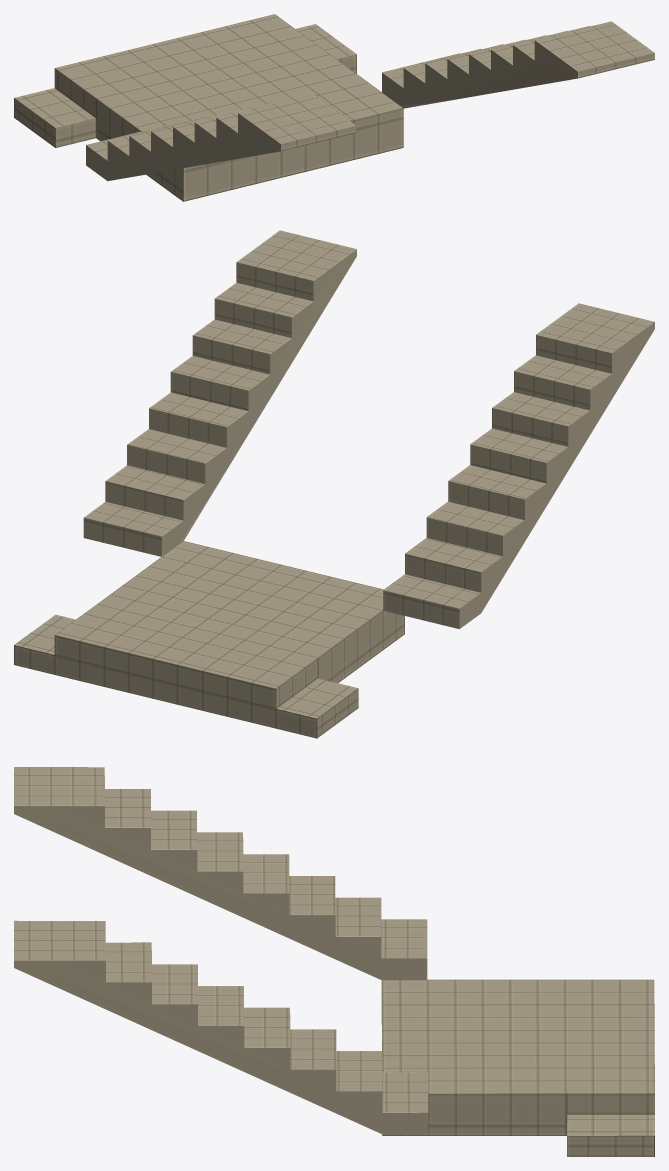
Rendered from Stair_06_Ufa.FBX.
3 views of the same model, one above another, from view 1: azimuth 30°, elevation 25°; view 2: azimuth 150°, elevation 25°; view 3: azimuth 270°, elevation 25° (orthographic). The views are drawn at different scales.
Parts seen in each view (by area): view 1: Stair_06_Ufa; view 2: Stair_06_Ufa; view 3: Stair_06_Ufa.
Part boxes in pixels (x1,y1,x2,y2): Stair_06_Ufa: (14, 14, 654, 201); Stair_06_Ufa: (14, 230, 654, 738); Stair_06_Ufa: (14, 767, 654, 1156).
Bounding box in the file's own units: 4.6 × 2.39 × 6.44.
1 material, 1 textured.
